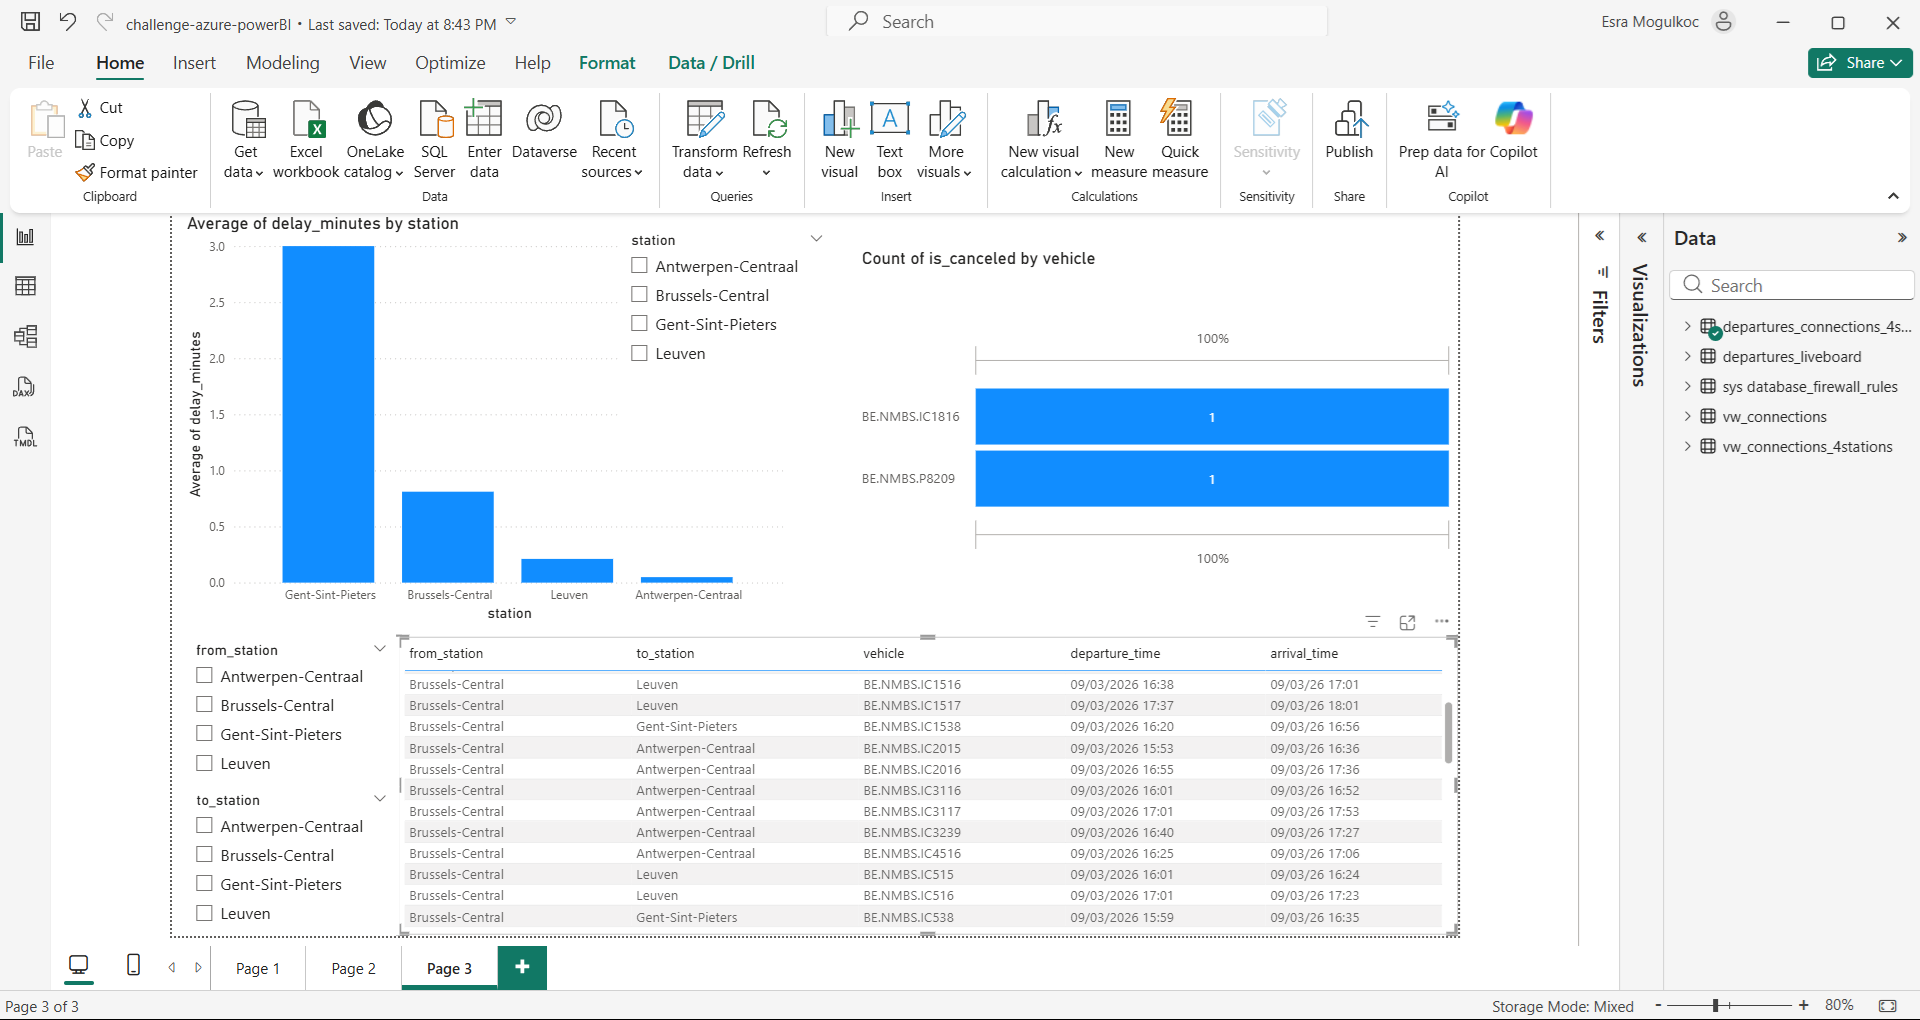

Layout of this report page (visuals, bound fields, positions):
{"tool":"powerbi","page":{"name":"Page 3","canvas":[1280,720],"ordinal":2},"visuals":[{"type":"clusteredColumnChart","fields":{"Category":["departures_liveboard.station"],"Y":["Avg(departures_liveboard.delay_minutes)"]},"box":[10,0,604.6,411.8],"z":0},{"type":"slicer","fields":{"Values":["departures_liveboard.station"]},"box":[443.5,13.7,216.4,192],"z":2},{"type":"funnel","fields":{"Category":["departures_liveboard.vehicle"],"Y":["CountNonNull(departures_liveboard.is_canceled)"]},"box":[681.3,35.1,599,376.5],"z":3},{"type":"tableEx","fields":{"Values":["departures_connections_4stations.from_station","departures_connections_4stations.to_station","departures_connections_4stations.vehicle","departures_connections_4stations.departure_time","departures_connections_4stations.arrival_time"]},"box":[225.6,422.2,1054.7,297.2],"z":4},{"type":"slicer","fields":{"Values":["departures_connections_4stations.from_station"]},"box":[10.7,422.2,214.9,149.4],"z":5},{"type":"slicer","fields":{"Values":["departures_connections_4stations.to_station"]},"box":[10.7,571.6,214.9,147.8],"z":6}]}

Visuals, with their boxes on the page's 1280x720 design canvas (x1, y1, x2, y2). These are canvas units, not pixel positions in the 1920x1020 screenshot, which may show the page scaled, cropped or inside an application window:
clusteredColumnChart - departures_liveboard.station x Avg(departures_liveboard.delay_minutes): [10, 0, 615, 412]
slicer - departures_liveboard.station: [444, 14, 660, 206]
funnel - departures_liveboard.vehicle x CountNonNull(departures_liveboard.is_canceled): [681, 35, 1280, 412]
tableEx - departures_connections_4stations.from_station x departures_connections_4stations.to_station: [226, 422, 1280, 719]
slicer - departures_connections_4stations.from_station: [11, 422, 226, 572]
slicer - departures_connections_4stations.to_station: [11, 572, 226, 719]
